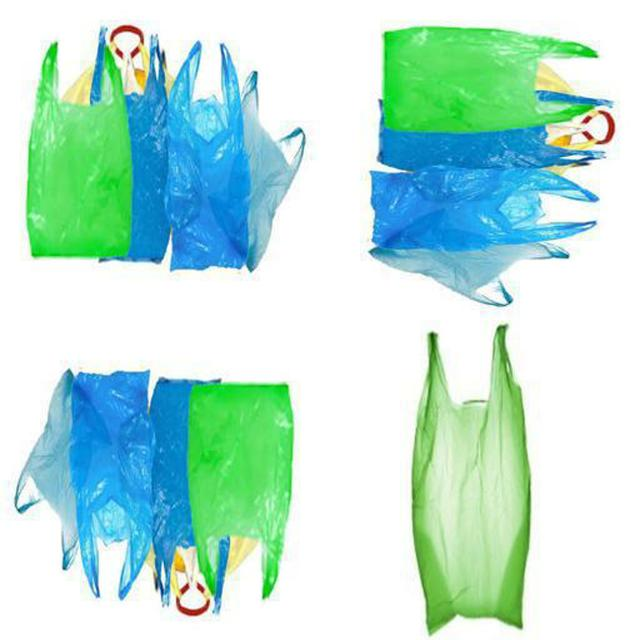Single-layer Plastic: (412, 325, 530, 632), (188, 384, 294, 599), (384, 26, 596, 132), (28, 42, 132, 258), (168, 42, 250, 270), (70, 371, 152, 599), (371, 168, 595, 251), (241, 71, 305, 271), (370, 242, 569, 306), (15, 370, 78, 570), (150, 379, 205, 604), (379, 119, 604, 171), (120, 35, 170, 262)
